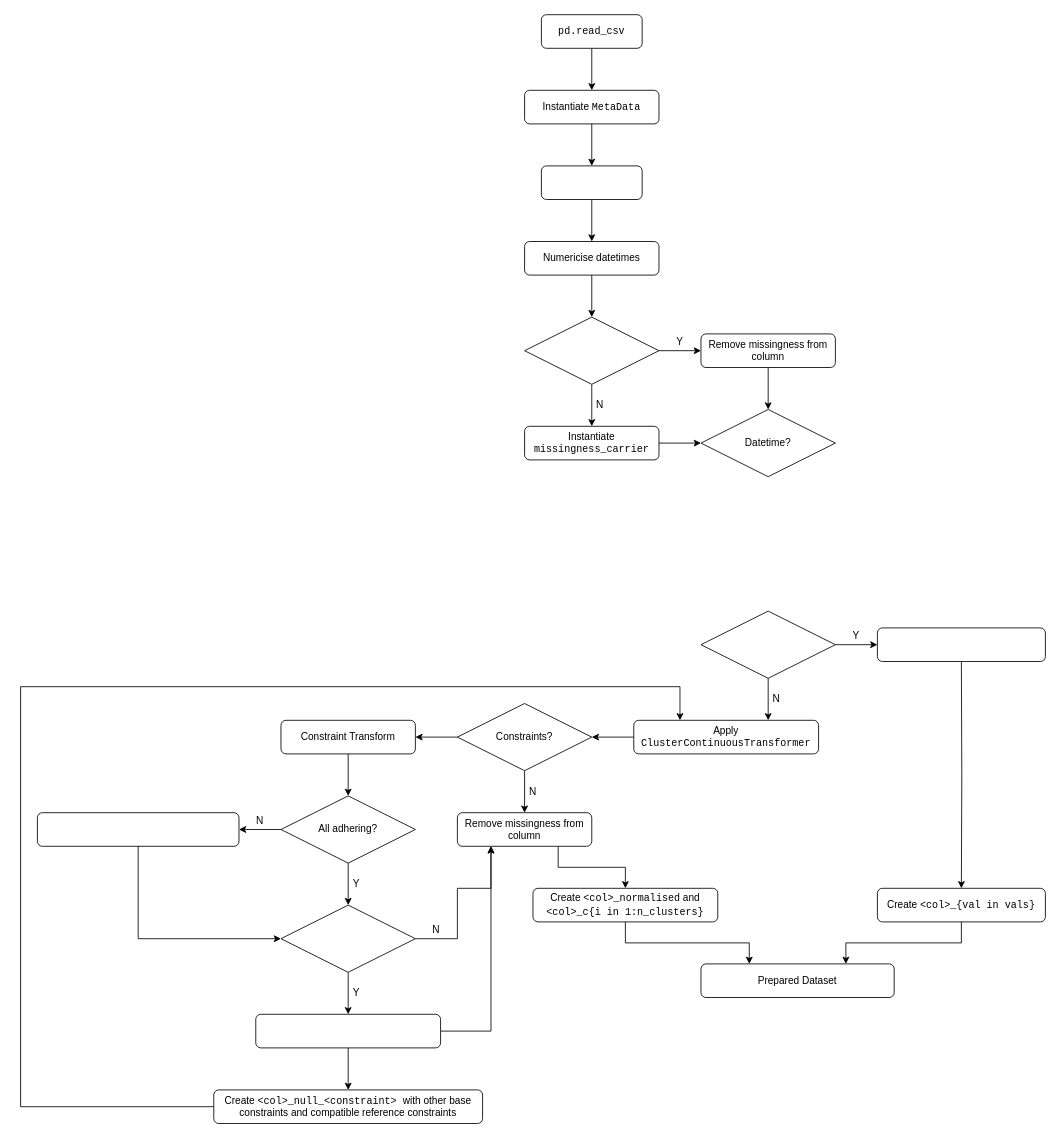
Some shapes in this 1060 by 1138 pixel diagram are drawn without their labels. Each missing label, with the box of its shape:
Apply dtypes: (541, 165, 642, 200)
Apply OHECategoricalTransformer: (877, 627, 1045, 662)
Categorical?: (700, 610, 835, 678)
Create <col>_<constraint>_fail: (37, 812, 239, 846)
Create <col>_null_<constraint>_flag: (255, 1013, 441, 1048)
Drop or Impute missingness?: (524, 316, 659, 384)
Missingness in reference?: (280, 904, 415, 972)
